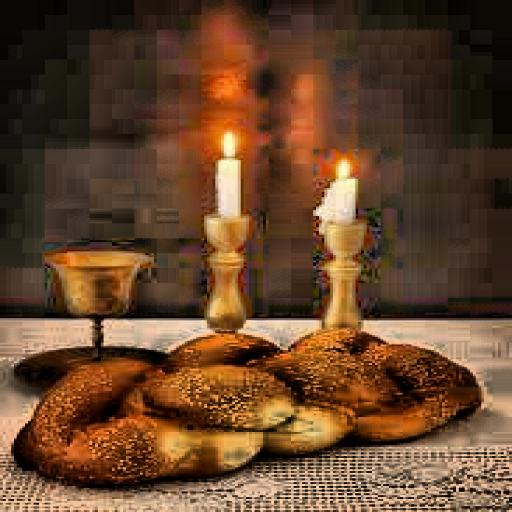fire: (204, 130, 249, 164), (322, 154, 361, 184)
